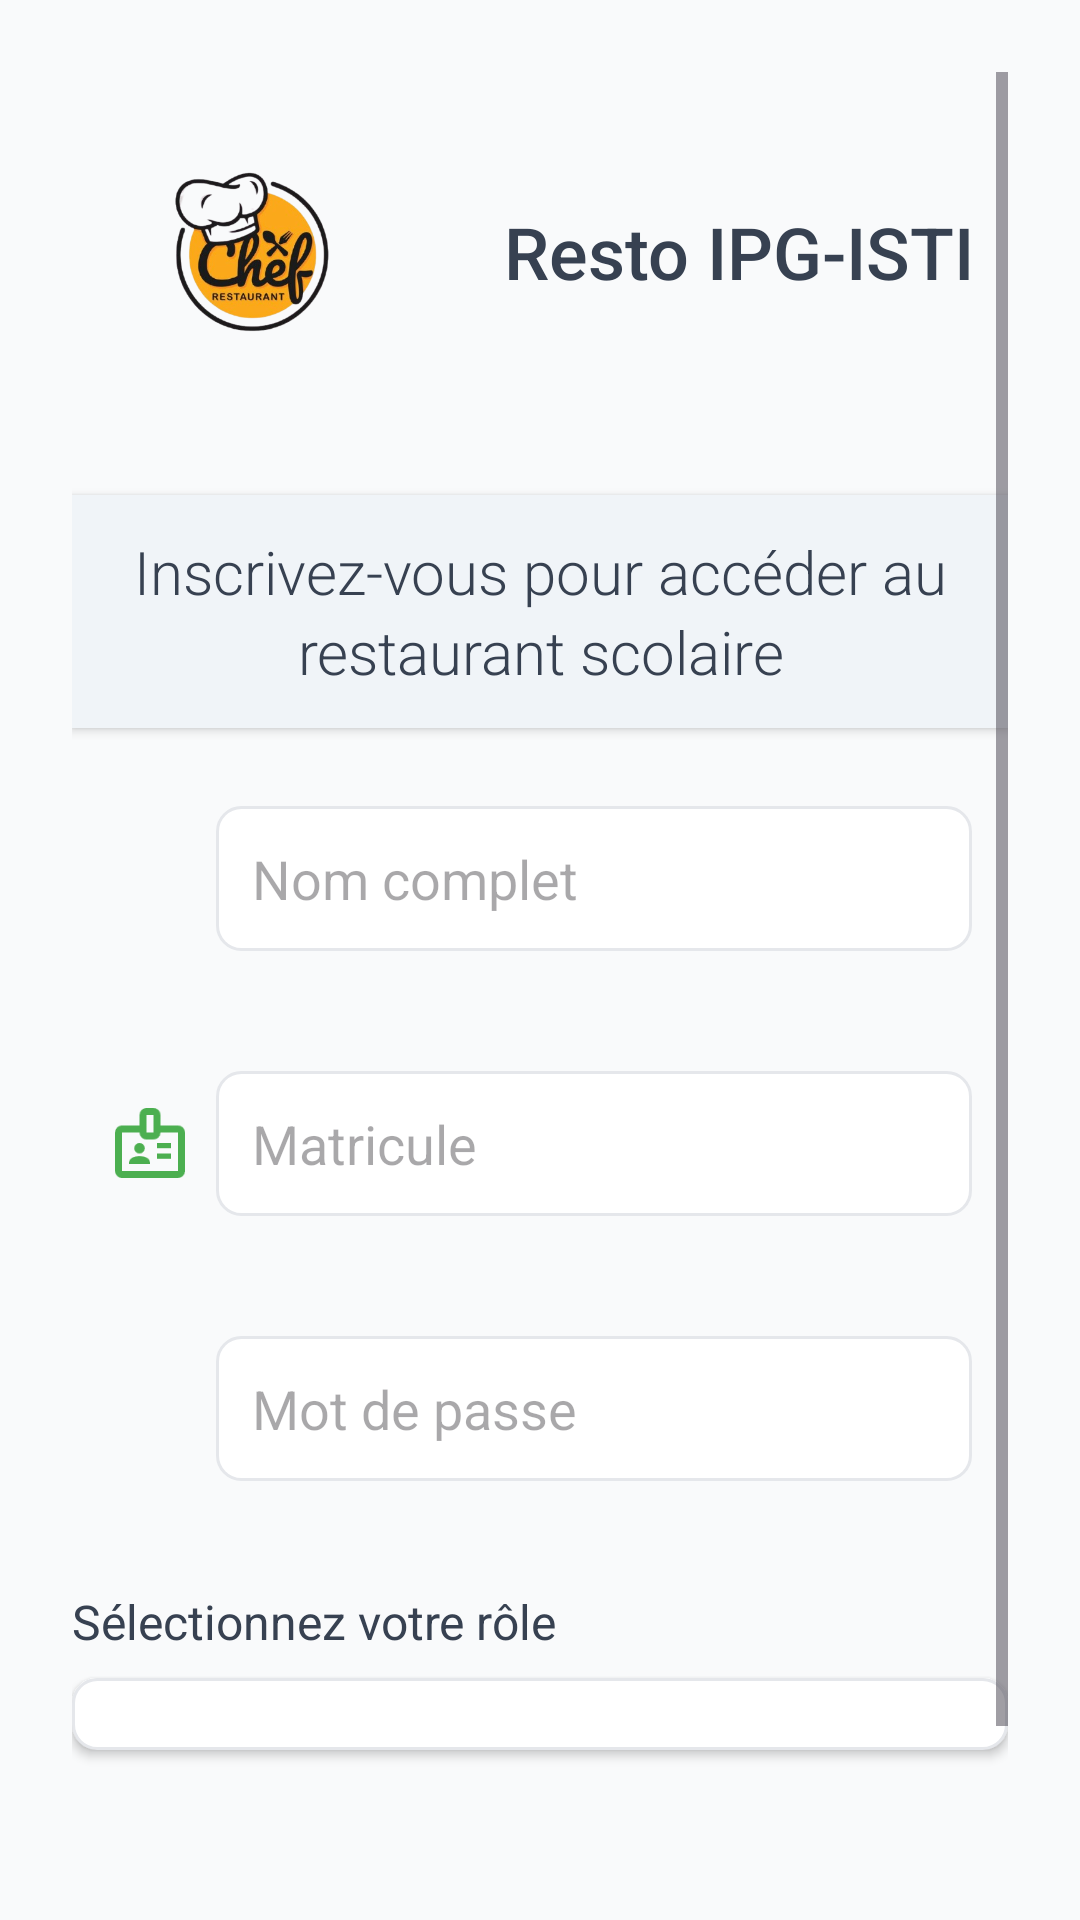

Where icons sit on this 1080×1920 app screen, as (x1, y1, x2, y2):
id card: (115, 1108, 185, 1178)
